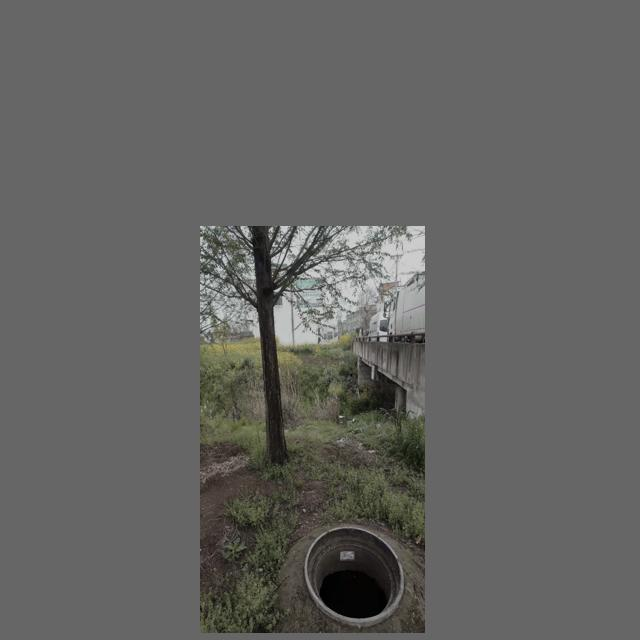lose: (297, 525, 408, 622)
